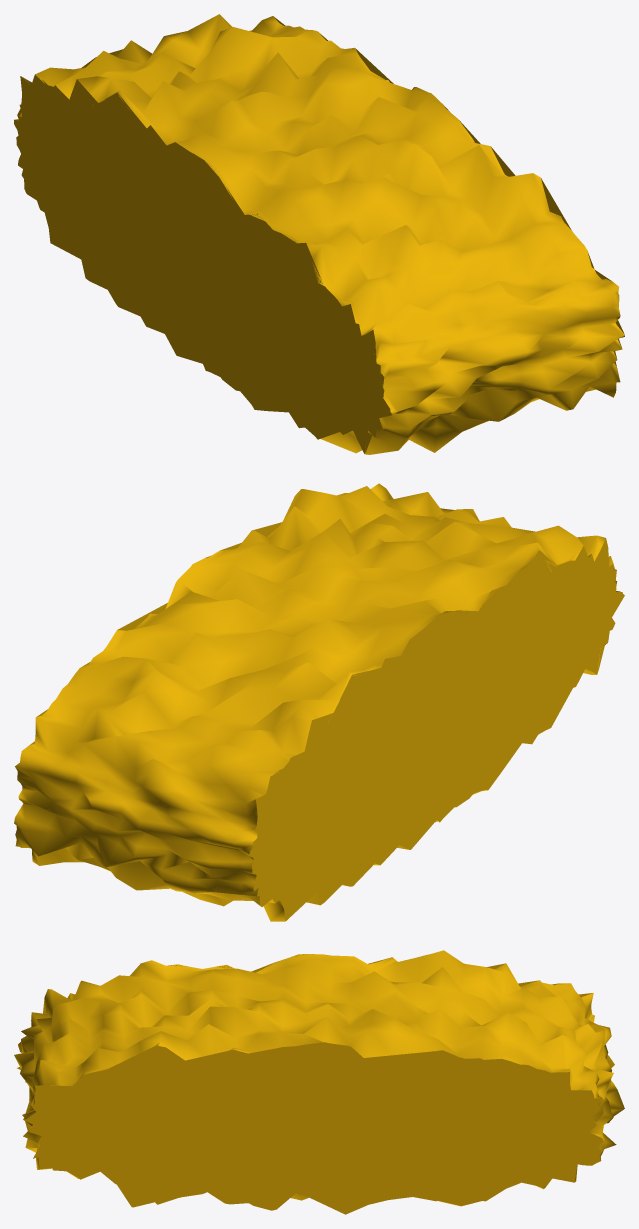
Rendered from 切ったチキン3.fbx.
3 views of the same model, one above another, from view 1: azimuth 30°, elevation 25°; view 2: azimuth 150°, elevation 25°; view 3: azimuth 270°, elevation 25° (orthographic). The views are drawn at different scales.
Parts seen in each view (by area): view 1: オブジェクト; view 2: オブジェクト; view 3: オブジェクト.
Boxes of the visible parts, left/top/right/bottom form: オブジェクト: left=14, top=14, right=624, bottom=454; オブジェクト: left=14, top=483, right=624, bottom=921; オブジェクト: left=14, top=950, right=624, bottom=1214.
Bounding box in the file's own units: 0.6247 × 0.605 × 1.8.
